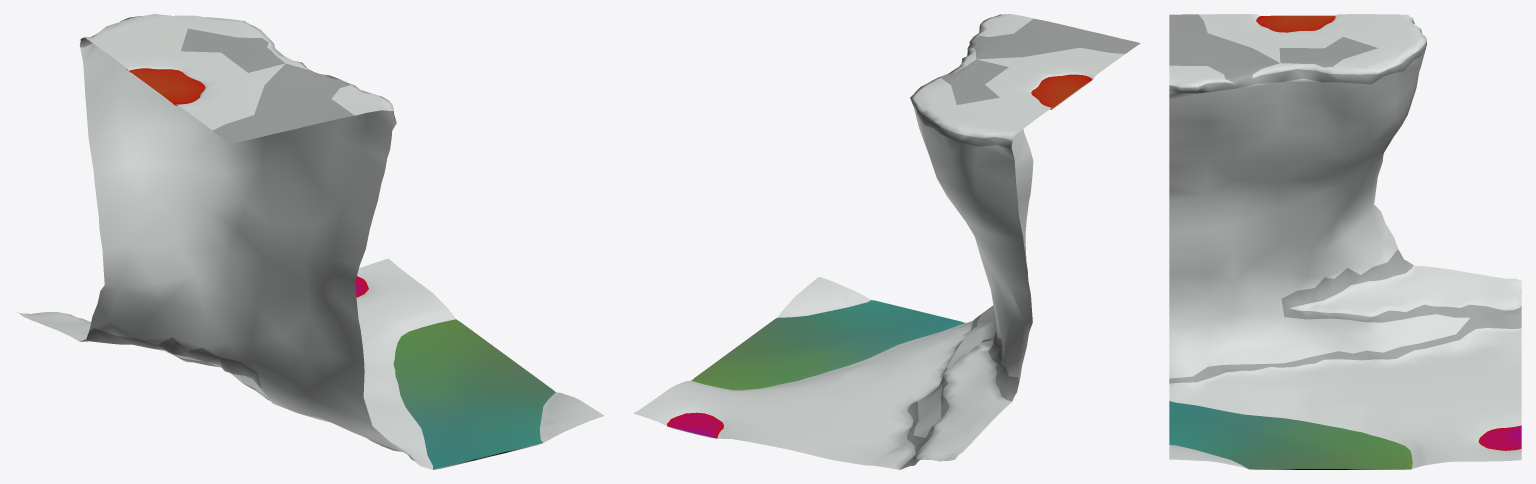
The picture shows the model from 3 angles, left to right: view 1: azimuth 30°, elevation 25°; view 2: azimuth 150°, elevation 25°; view 3: azimuth 270°, elevation 25°; orthographic projection. The views are drawn at different scales.
Visible parts, largest first — view 1: G:\FFXIV-MapTools\exports\r2f1\bg\ex1\01_roc_r2\fld\r2f1\bgp (×7); view 2: G:\FFXIV-MapTools\exports\r2f1\bg\ex1\01_roc_r2\fld\r2f1\bgp (×7); view 3: G:\FFXIV-MapTools\exports\r2f1\bg\ex1\01_roc_r2\fld\r2f1\bgp (×7).
Part boxes in pixels (x1,y1,x2,y2): G:\FFXIV-MapTools\exports\r2f1\bg\ex1\01_roc_r2\fld\r2f1\bgp (×7): [17, 14, 604, 469]; G:\FFXIV-MapTools\exports\r2f1\bg\ex1\01_roc_r2\fld\r2f1\bgp (×7): [633, 14, 1140, 469]; G:\FFXIV-MapTools\exports\r2f1\bg\ex1\01_roc_r2\fld\r2f1\bgp (×7): [1169, 14, 1521, 469].
Bounding box in the file's own units: 128 × 123 × 128.
